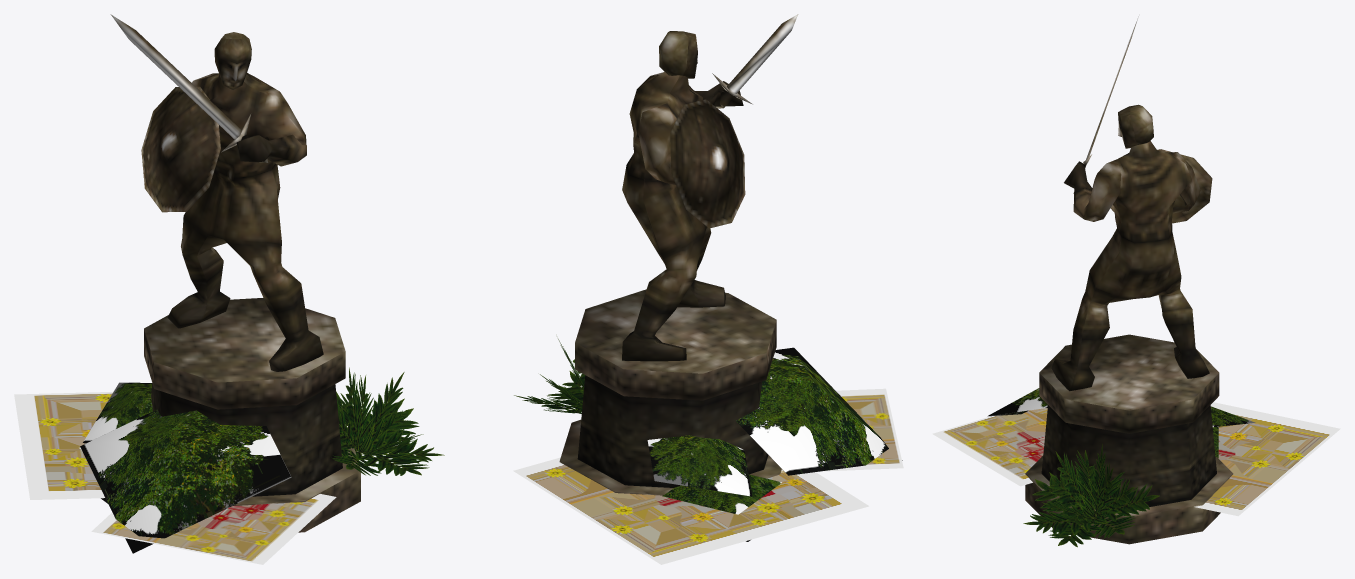
File: swordman_statue.dae
3 views of the same model, side by side, from view 1: azimuth 30°, elevation 25°; view 2: azimuth 150°, elevation 25°; view 3: azimuth 270°, elevation 25° (orthographic). The views are drawn at different scales.
Parts seen in each view (by area): view 1: Untitled; view 2: Untitled; view 3: Untitled.
Boxes of the visible parts, x1,y1,x2,y2 form: Untitled: [14, 14, 444, 564]; Untitled: [513, 14, 903, 564]; Untitled: [932, 16, 1340, 547].
Bounding box in the file's own units: 2.71 × 2.77 × 3.23.
5 materials, 5 textured.
